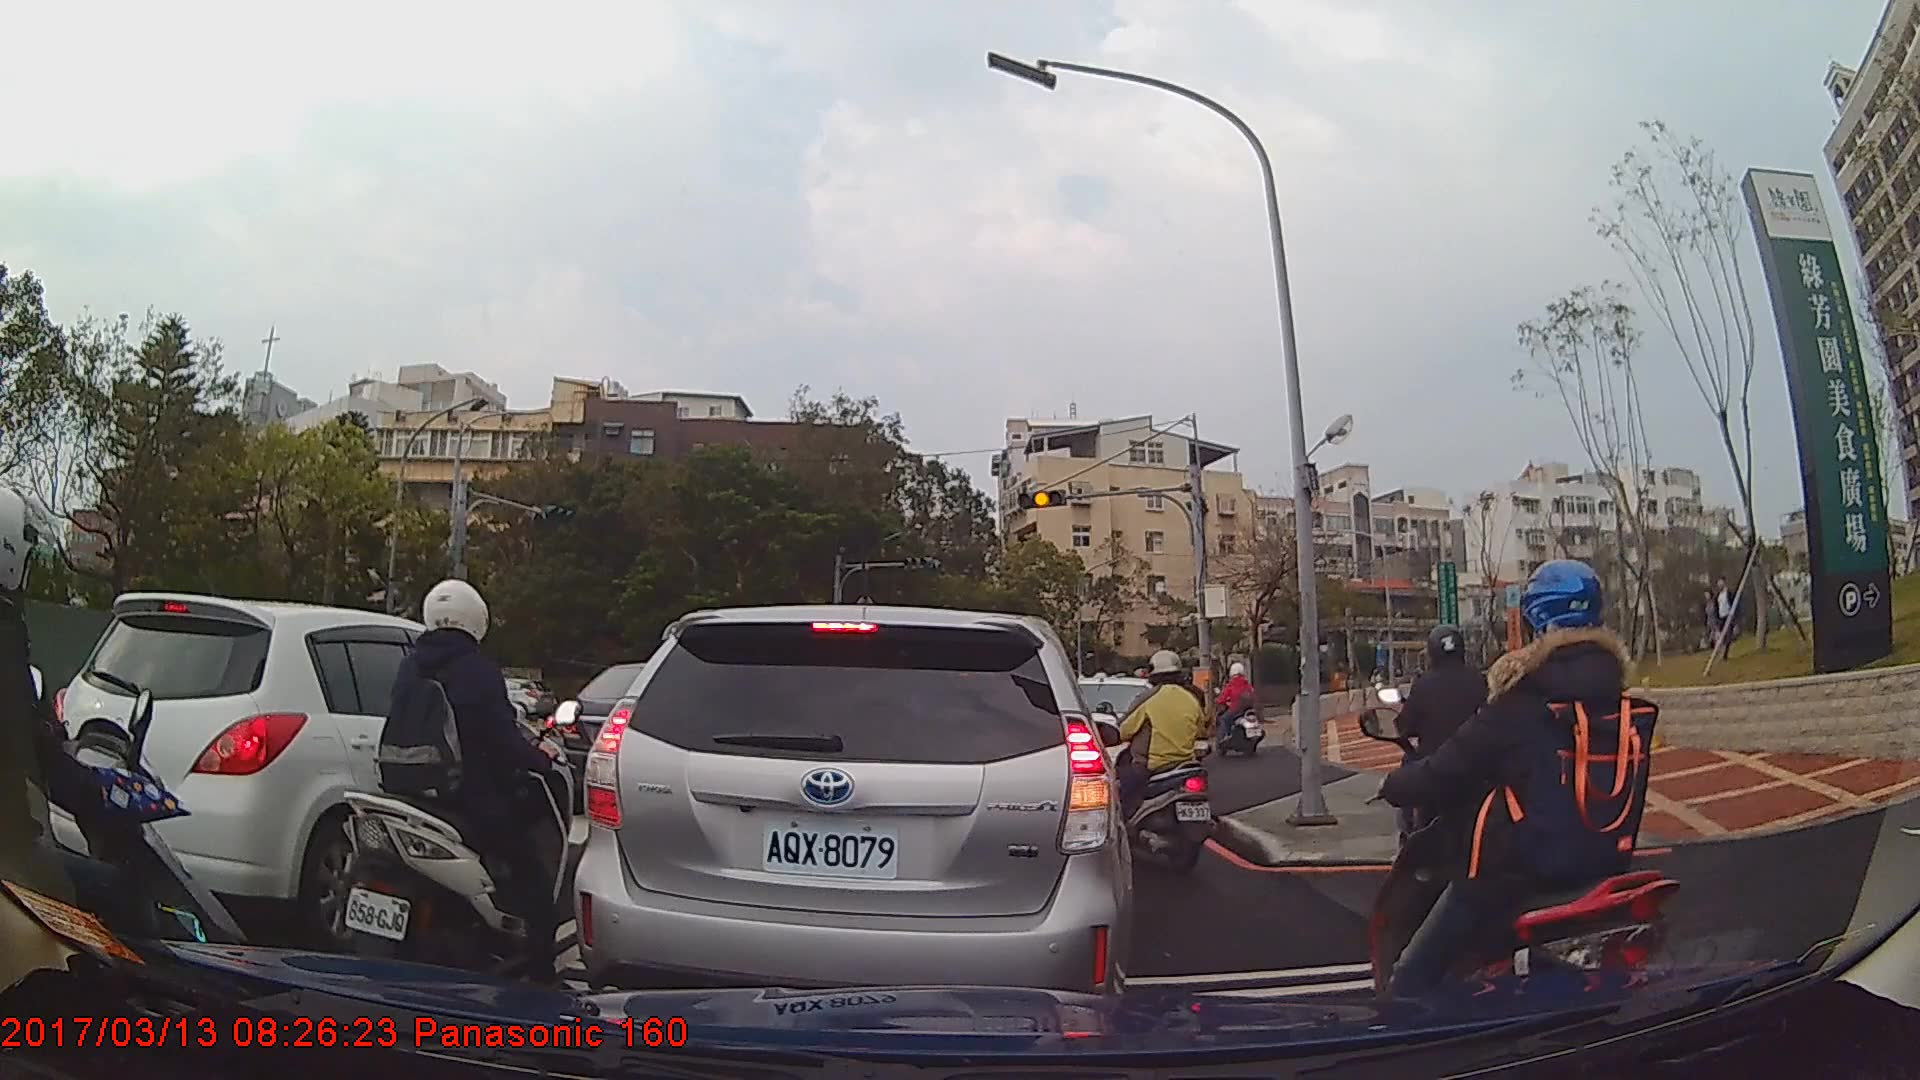pedestrian: (1707, 574, 1748, 657), (1695, 582, 1729, 658)
rider: (1364, 558, 1681, 1045), (1, 480, 247, 1080), (343, 579, 574, 1008), (1378, 623, 1533, 925), (1104, 647, 1215, 874), (1211, 660, 1266, 760)
vehicle: (574, 604, 1135, 1029), (45, 592, 571, 959), (485, 677, 557, 722)
